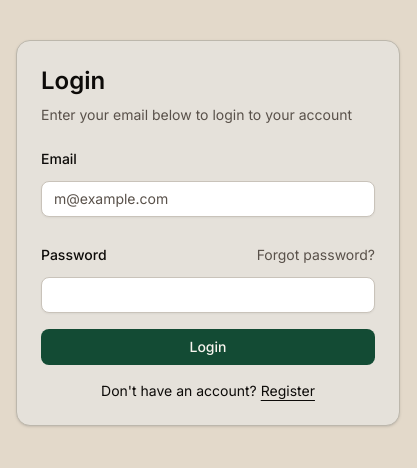
auth forms › shows login server errors
Type "jane@example.com" into the field labelled "Email" at {"x": 208, "y": 199}, box [41,181,375,217]
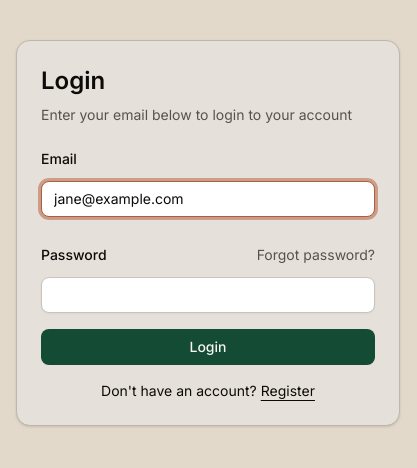
Type "wrong-password" into the password field labelled "Password" at {"x": 208, "y": 295}, box [41,277,375,313]
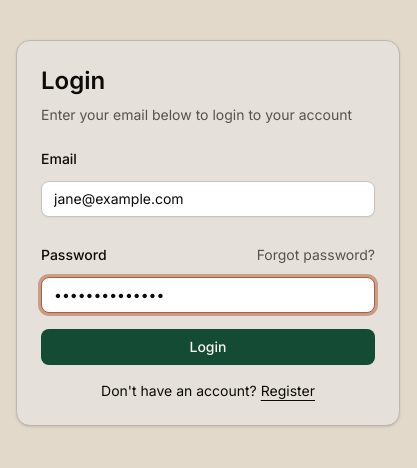
Click the button "Login" at {"x": 208, "y": 347}, box [41,329,375,365]
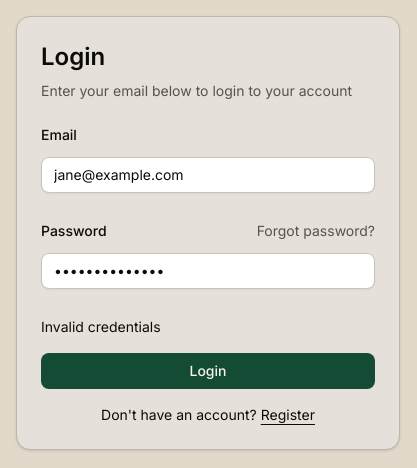
expect the text "Invalid credentials" is shown: met, box [41,318,161,335]
